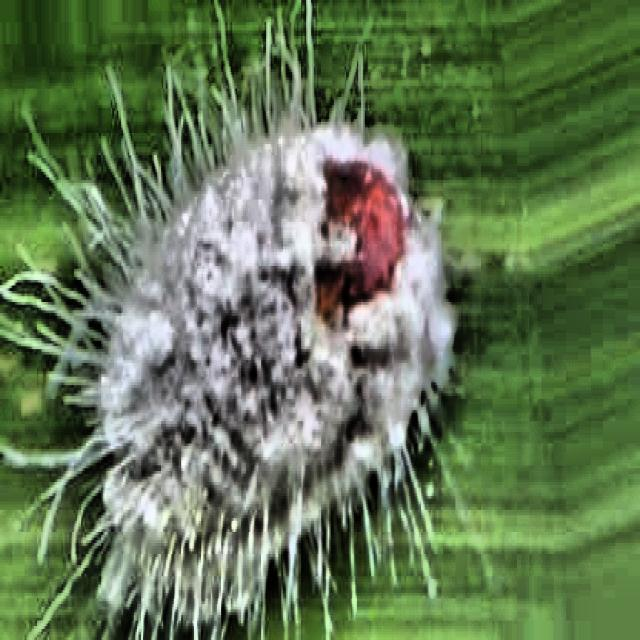Mealy-bug: (2, 20, 502, 638)
